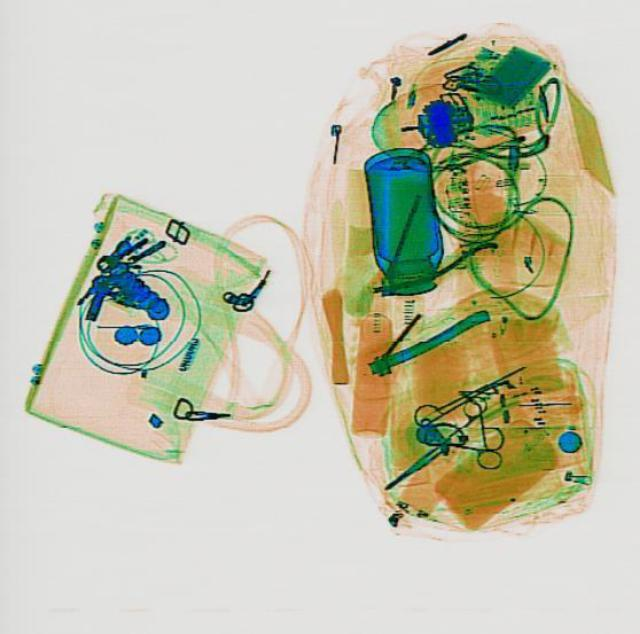Scissors: (363, 388, 515, 509)
